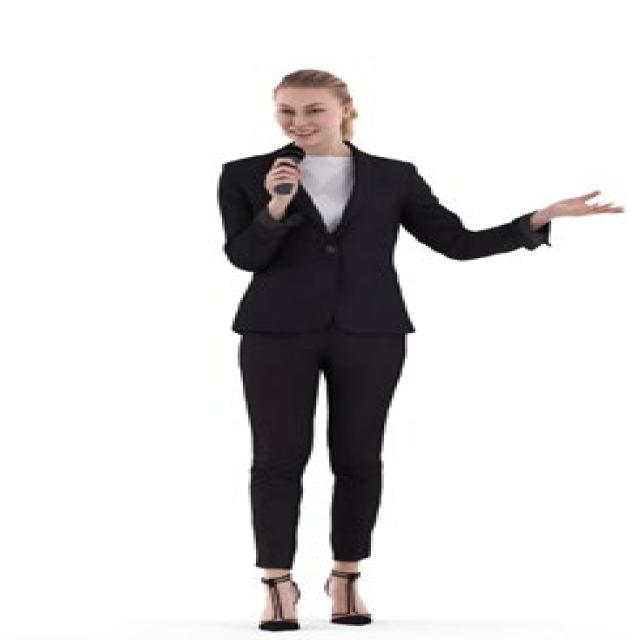standing: (212, 68, 628, 632)
